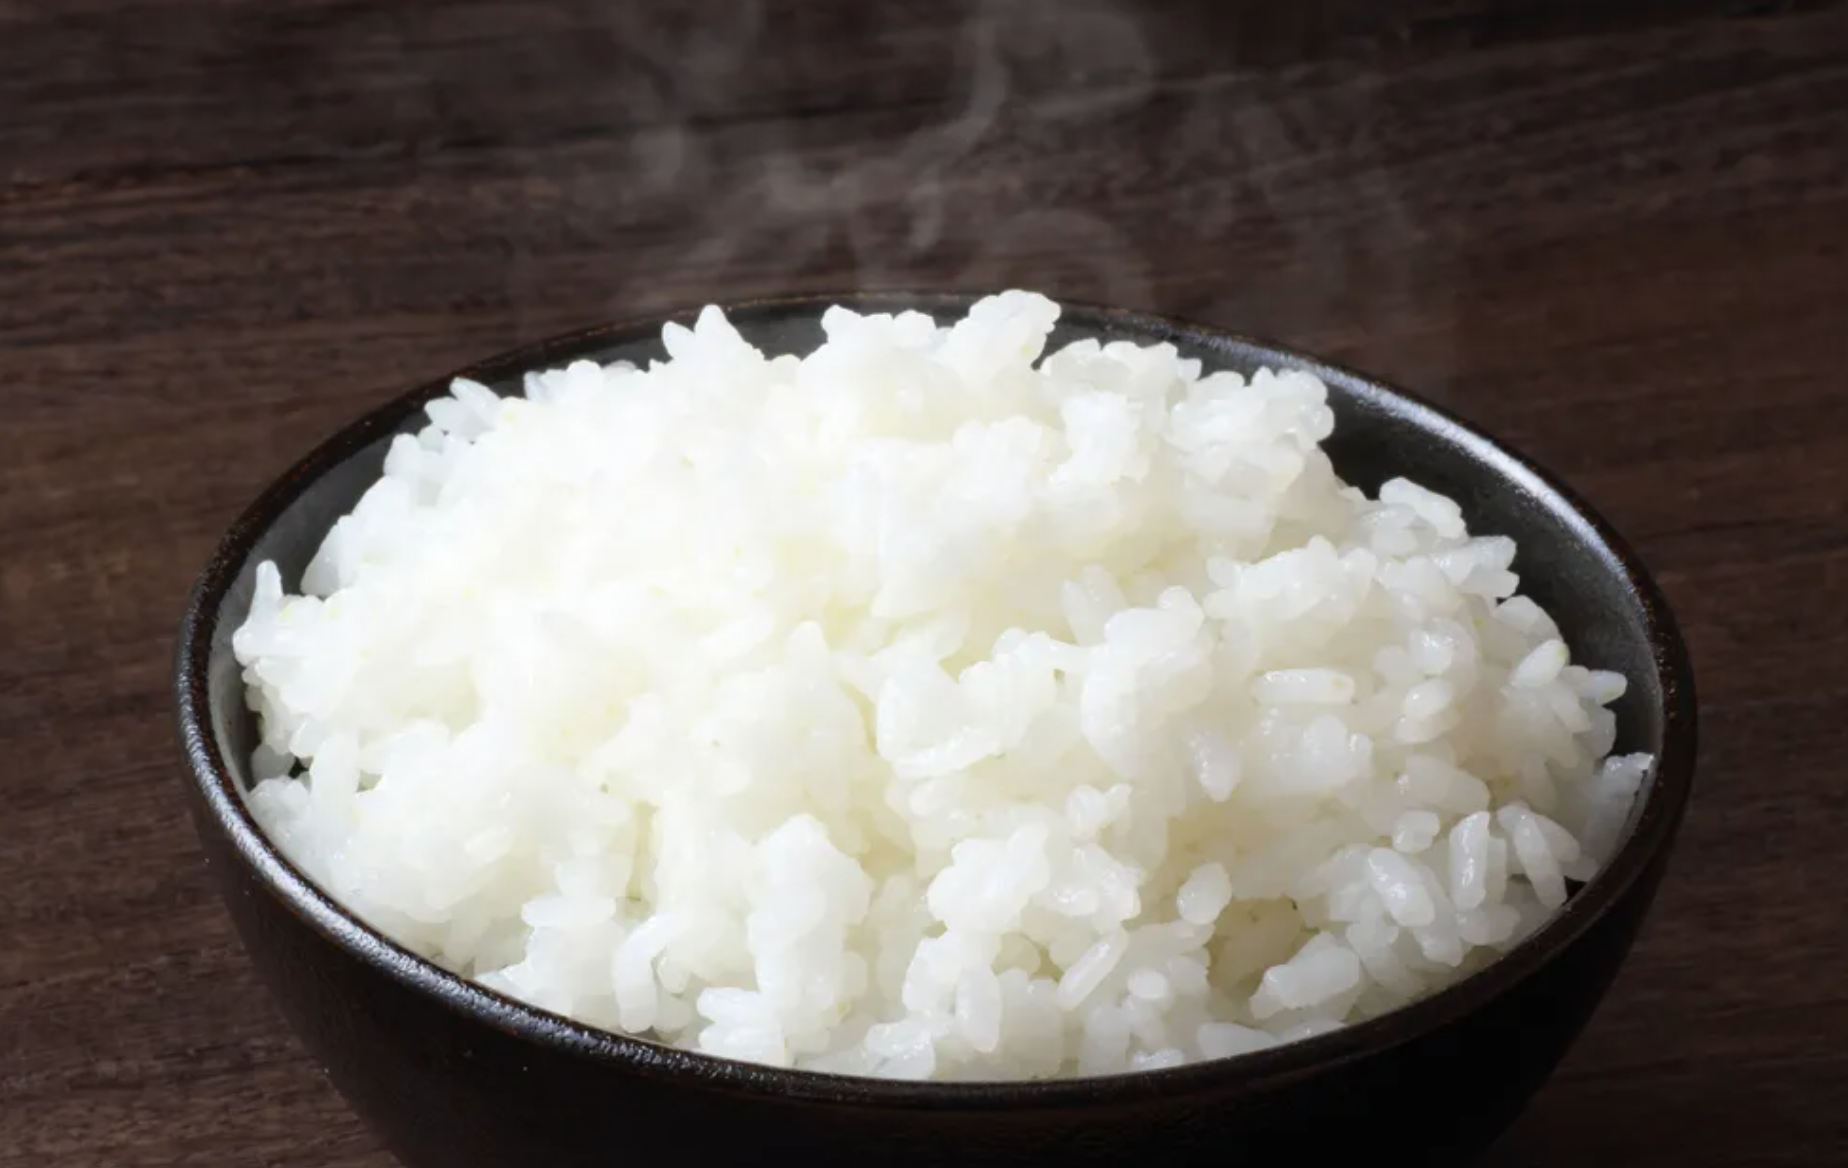Nasi Putih: (28, 210, 1603, 1103)
